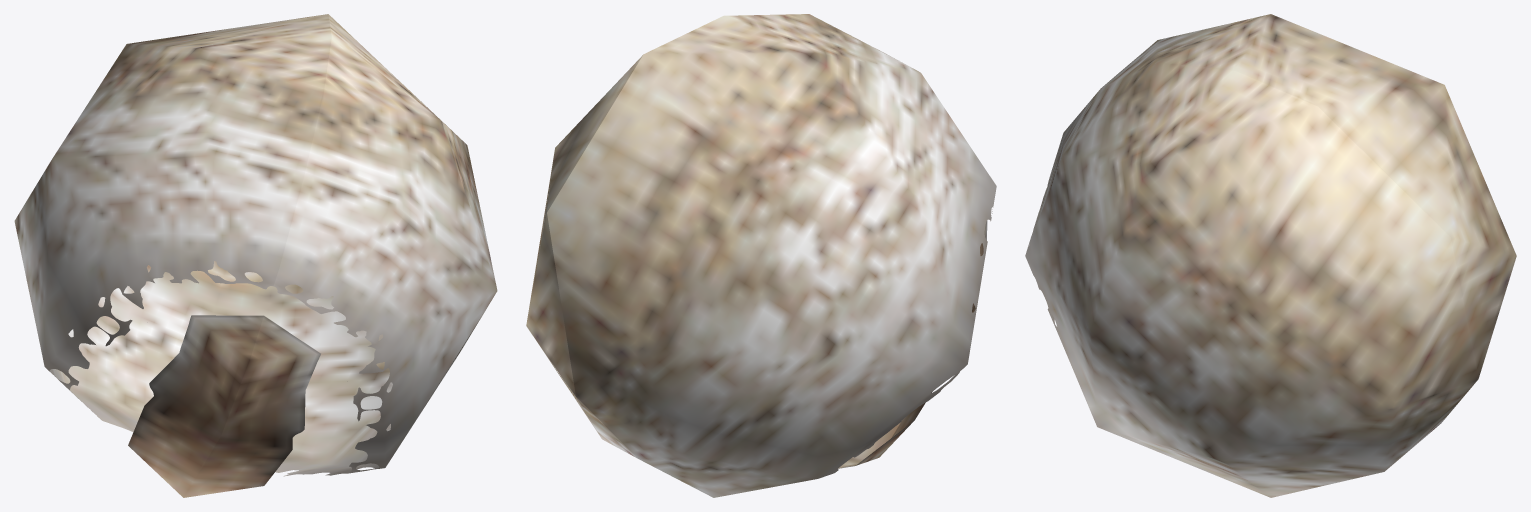
3 views of the same model, side by side, from view 1: azimuth 30°, elevation 25°; view 2: azimuth 150°, elevation 25°; view 3: azimuth 270°, elevation 25° (orthographic). The views are drawn at different scales.
Parts seen in each view (by area): view 1: mesh00; view 2: mesh00; view 3: mesh00.
Part boxes in pixels (x1=…): mesh00: x1=14, y1=14, x2=497, y2=497; mesh00: x1=526, y1=14, x2=996, y2=497; mesh00: x1=1025, y1=14, x2=1516, y2=497.
Bounding box in the file's own units: 145 × 145 × 150.
